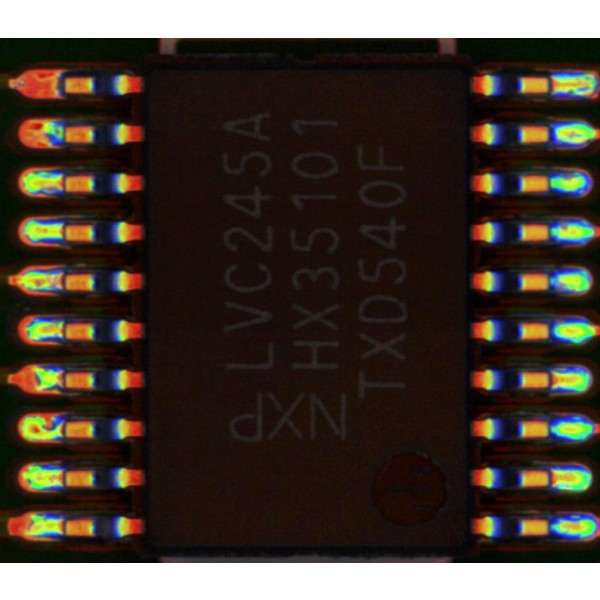Bad_podu: (534, 471, 576, 487), (533, 79, 583, 92), (532, 375, 576, 388), (35, 276, 81, 287), (35, 178, 81, 188), (46, 473, 80, 485), (42, 324, 79, 335)
